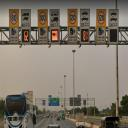speed_limit_100: (39, 10, 47, 26)
speed_limit_120: (96, 10, 106, 26), (69, 9, 77, 26)
speed_limit_80: (10, 10, 18, 25)
